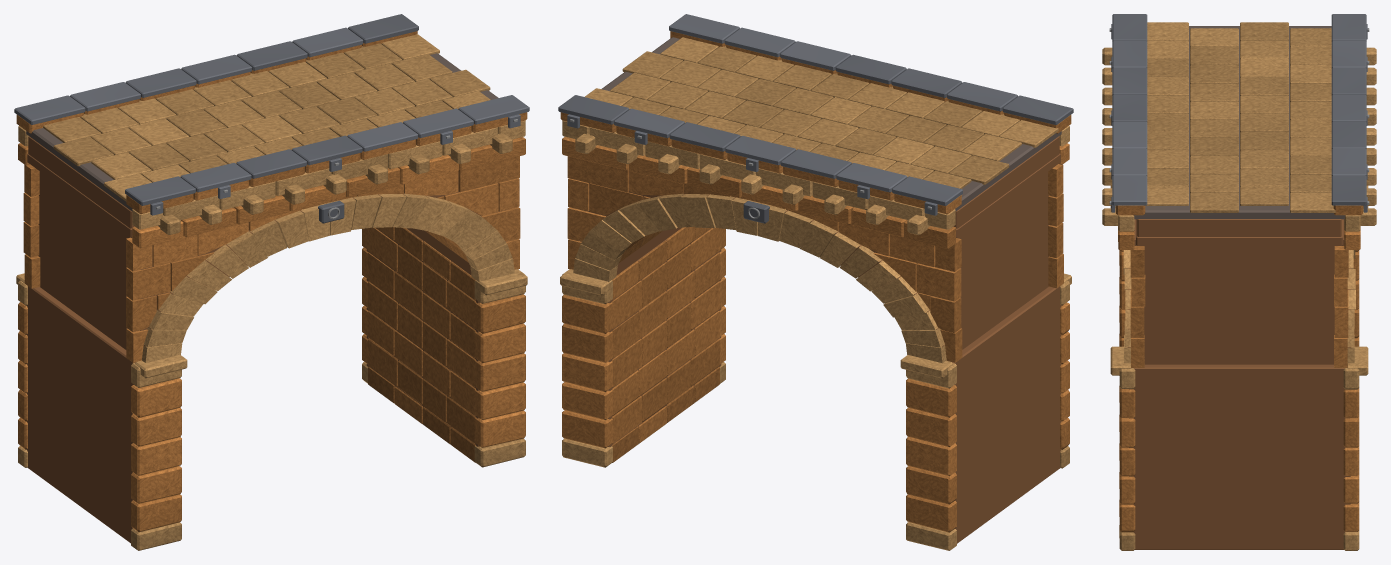
The model's file is east-gate-central-span.glb.
3 renders of one model, left to right at view 1: azimuth 30°, elevation 25°; view 2: azimuth 150°, elevation 25°; view 3: azimuth 270°, elevation 25°, orthographic.
Visible parts, largest first — view 1: 01 | ochre limestone ashlar, 02 | carved honey limestone, 03 | recessed warm lime mortar, 04 | forged blued iron coping, 08 | plain closed head datum (provisional); view 2: 01 | ochre limestone ashlar, 02 | carved honey limestone, 03 | recessed warm lime mortar, 04 | forged blued iron coping, 08 | plain closed head datum (provisional); view 3: 03 | recessed warm lime mortar, 02 | carved honey limestone, 04 | forged blued iron coping, 01 | ochre limestone ashlar, 08 | plain closed head datum (provisional).
Boxes of the visible parts, box(x1,y1,x2,y2) form: 01 | ochre limestone ashlar: box(16, 31, 527, 532); 02 | carved honey limestone: box(16, 34, 527, 550); 03 | recessed warm lime mortar: box(26, 136, 509, 543); 04 | forged blued iron coping: box(14, 14, 529, 223); 08 | plain closed head datum (provisional): box(26, 53, 498, 211); 01 | ochre limestone ashlar: box(560, 31, 1071, 532); 02 | carved honey limestone: box(560, 37, 1071, 550); 03 | recessed warm lime mortar: box(580, 136, 1061, 543); 04 | forged blued iron coping: box(558, 14, 1073, 223); 08 | plain closed head datum (provisional): box(601, 37, 1061, 211); 03 | recessed warm lime mortar: box(1127, 219, 1351, 549); 02 | carved honey limestone: box(1102, 22, 1376, 550); 04 | forged blued iron coping: box(1111, 14, 1367, 212); 01 | ochre limestone ashlar: box(1116, 205, 1362, 532); 08 | plain closed head datum (provisional): box(1133, 26, 1345, 219).
Bounding box in the file's own units: 6.82 × 5.93 × 4.2.
Materials: 6 (2 with a texture image).
